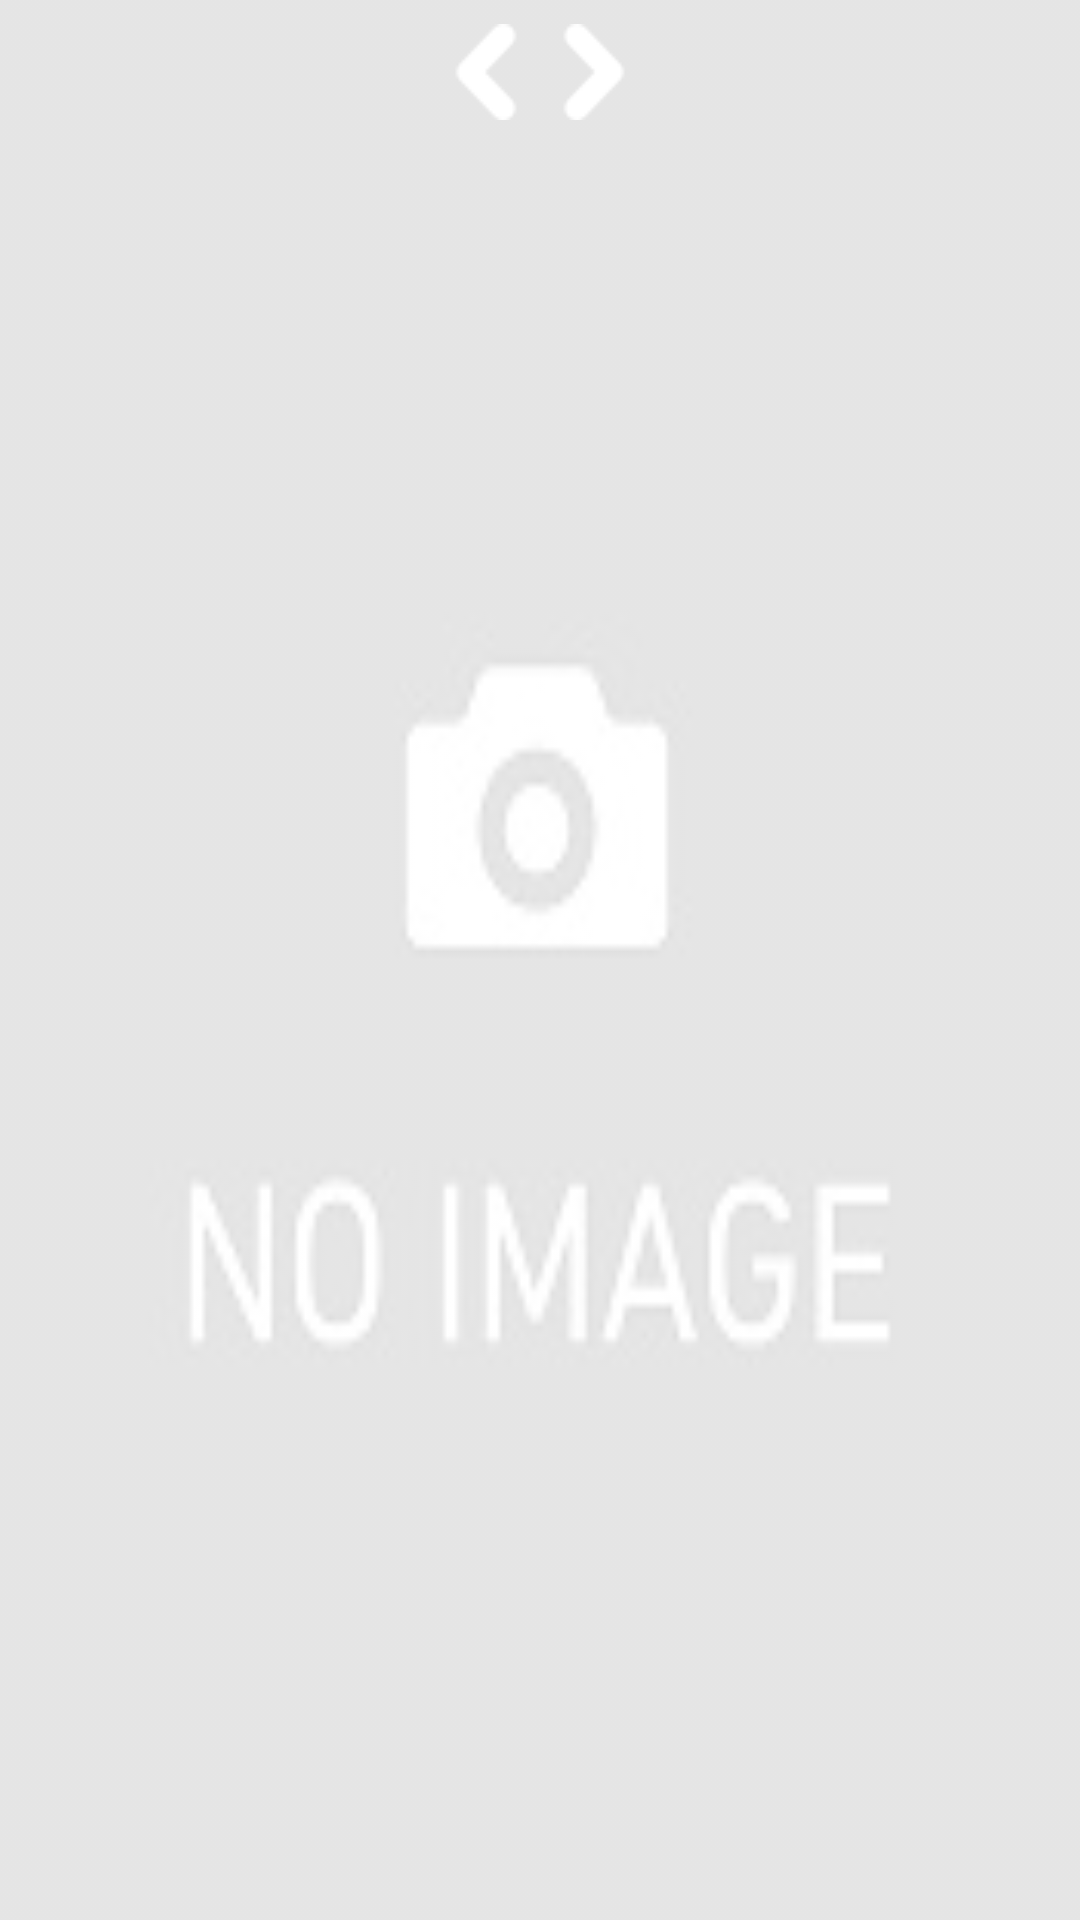

Icons on this 1080 x 1920 Android screen, each with its box as region(x1, y1, x2, y2):
next: region(568, 24, 620, 119)
prev: region(460, 26, 512, 120)
